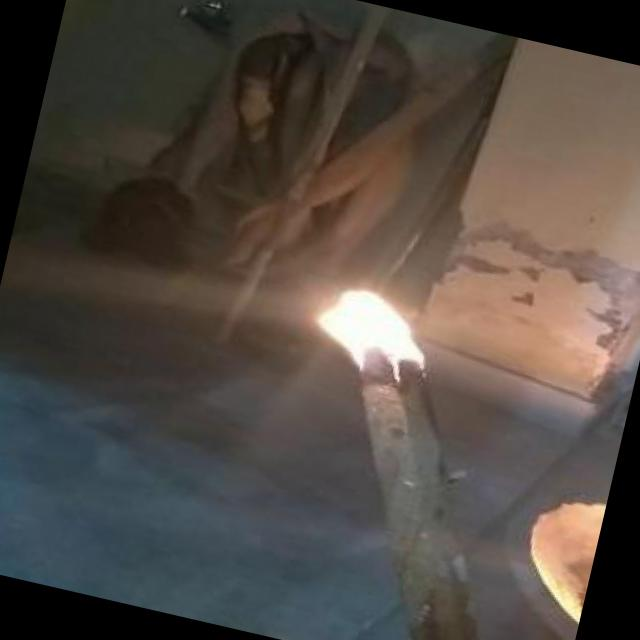fire: (287, 262, 455, 398)
